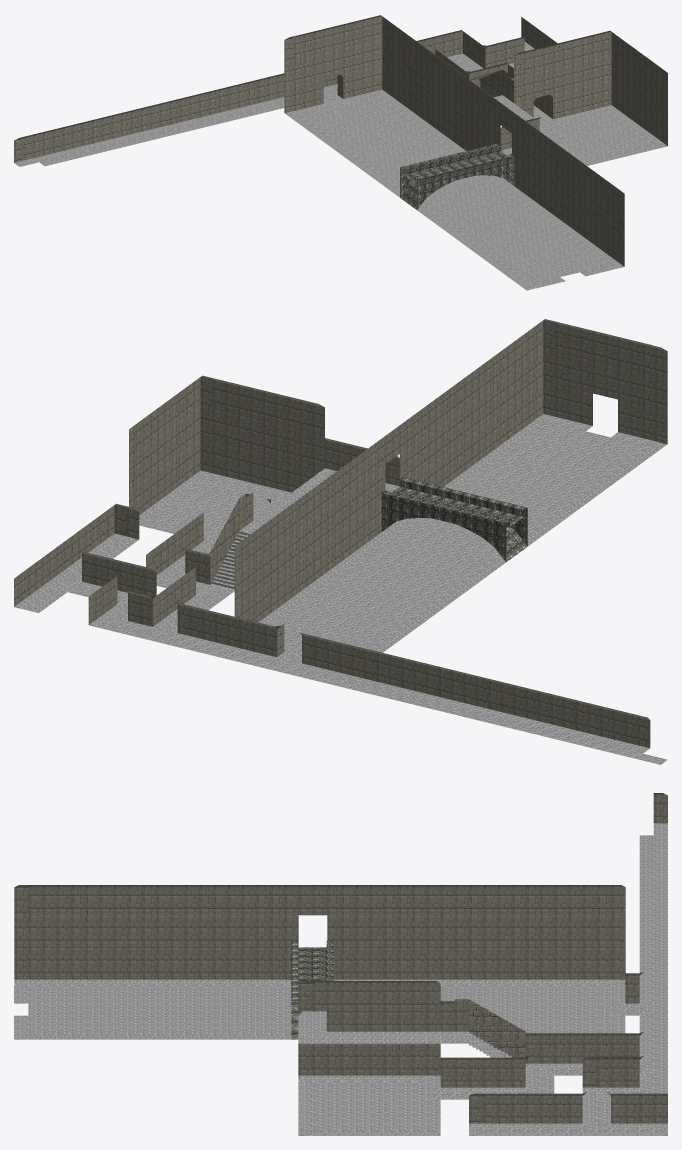
File: room.glb
3 views of the same model, one above another, from view 1: azimuth 30°, elevation 25°; view 2: azimuth 150°, elevation 25°; view 3: azimuth 270°, elevation 25° (orthographic). The views are drawn at different scales.
Visible parts, largest first — view 1: Object.325-col.338, Object.478, Object.269-col.001, Object.269-col, Object.099-col, Object.358-col.001, Object.358-col; view 2: Object.325-col.338, Object.478, Object.278-col, Object.278-col.001, Object.082-col, Object.367-col, Object.367-col.001; view 3: Object.478, Object.325-col.338, Object.232-col, Object.239-col, Object.263-col, Object.483-col, Object.269-col.002, Object.270-col.006, Object.272-col.006, Object.273-col.009, Object.274-col.006, Object.275-col.006 (+68 smaller).
Part boxes in pixels (x1=…): Object.325-col.338: x1=400, y1=143, x2=514, y2=209; Object.478: x1=470, y1=69, x2=502, y2=97; Object.269-col.001: x1=372, y1=64, x2=387, y2=95; Object.269-col: x1=602, y1=79, x2=617, y2=111; Object.099-col: x1=453, y1=30, x2=468, y2=59; Object.358-col.001: x1=372, y1=38, x2=387, y2=67; Object.358-col: x1=602, y1=54, x2=617, y2=83; Object.325-col.338: x1=381, y1=477, x2=527, y2=562; Object.478: x1=210, y1=499, x2=250, y2=590; Object.278-col: x1=193, y1=438, x2=212, y2=478; Object.278-col.001: x1=536, y1=381, x2=555, y2=421; Object.082-col: x1=107, y1=503, x2=126, y2=541; Object.367-col: x1=193, y1=405, x2=212, y2=442; Object.367-col.001: x1=536, y1=349, x2=555, y2=385; Object.478: x1=469, y1=999, x2=525, y2=1057; Object.325-col.338: x1=291, y1=941, x2=333, y2=1039; Object.232-col: x1=426, y1=1043, x2=440, y2=1081; Object.239-col: x1=369, y1=1043, x2=383, y2=1081; Object.263-col: x1=298, y1=1043, x2=312, y2=1081; Object.483-col: x1=454, y1=999, x2=468, y2=1037; Object.269-col.002: x1=14, y1=947, x2=28, y2=985; Object.270-col.006: x1=28, y1=947, x2=42, y2=985; Object.272-col.006: x1=57, y1=947, x2=71, y2=985; Object.273-col.009: x1=71, y1=947, x2=85, y2=985; Object.274-col.006: x1=85, y1=947, x2=99, y2=985; Object.275-col.006: x1=99, y1=947, x2=113, y2=985.
Size of what is drawn, in the model's own units: 104 by 15 by 92.
3 materials, 3 textured.
